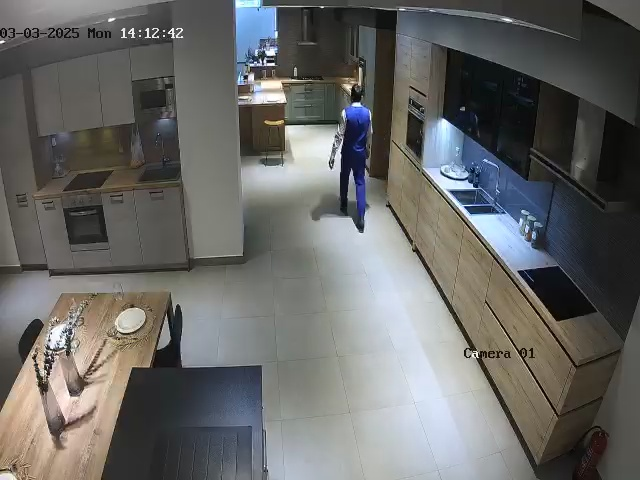employee: (328, 84, 373, 232)
